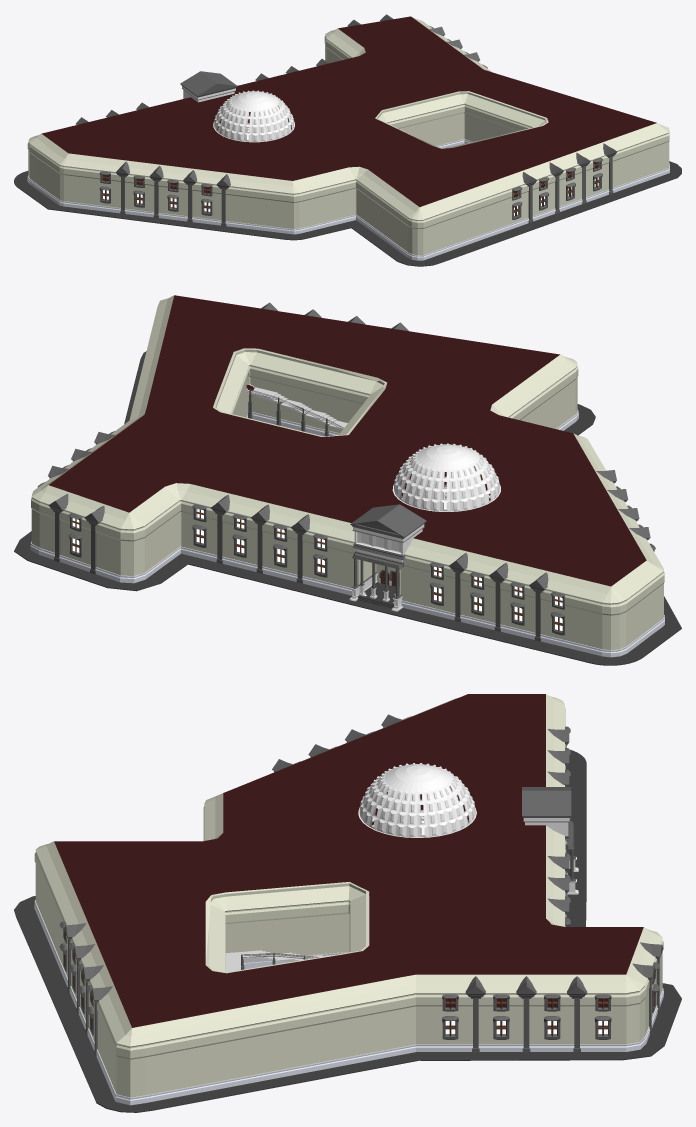
Rendered from biblio.glb.
3 renders of one model, top to bottom at view 1: azimuth 30°, elevation 25°; view 2: azimuth 150°, elevation 25°; view 3: azimuth 270°, elevation 25°, orthographic. The views are drawn at different scales.
Parts seen in each view (by area): view 1: estructura, entrada, escaleras, esfera; view 2: estructura, entrada, escaleras, esfera; view 3: estructura, entrada, escaleras, esfera.
Part boxes in pixels (x1,y1,x2,y2): estructura: (27,14,669,260); entrada: (14,71,681,266); escaleras: (375,91,548,148); esfera: (213,90,294,142); estructura: (30,295,664,657); entrada: (14,351,681,665); escaleras: (213,348,386,436); esfera: (392,443,500,511); estructura: (34,694,663,1105); entrada: (14,749,681,1112); escaleras: (206,882,369,973); esfera: (358,763,476,837).
Bounding box in the file's own units: 468 × 72.25 × 361.
